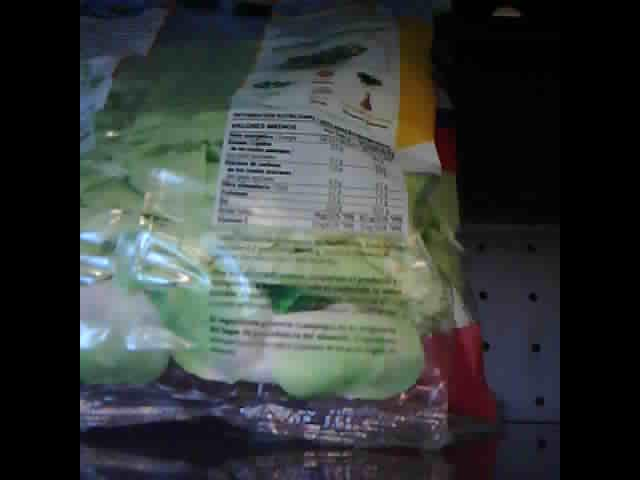florette: (80, 6, 503, 457)
